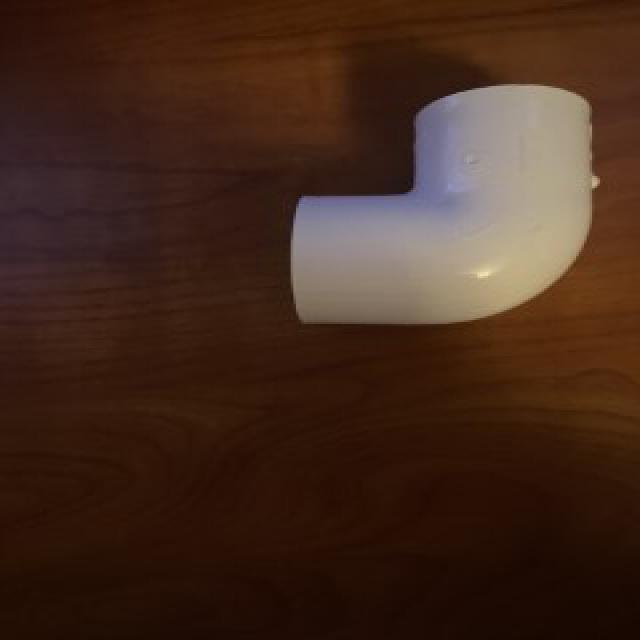L Joint: (287, 85, 601, 329)
